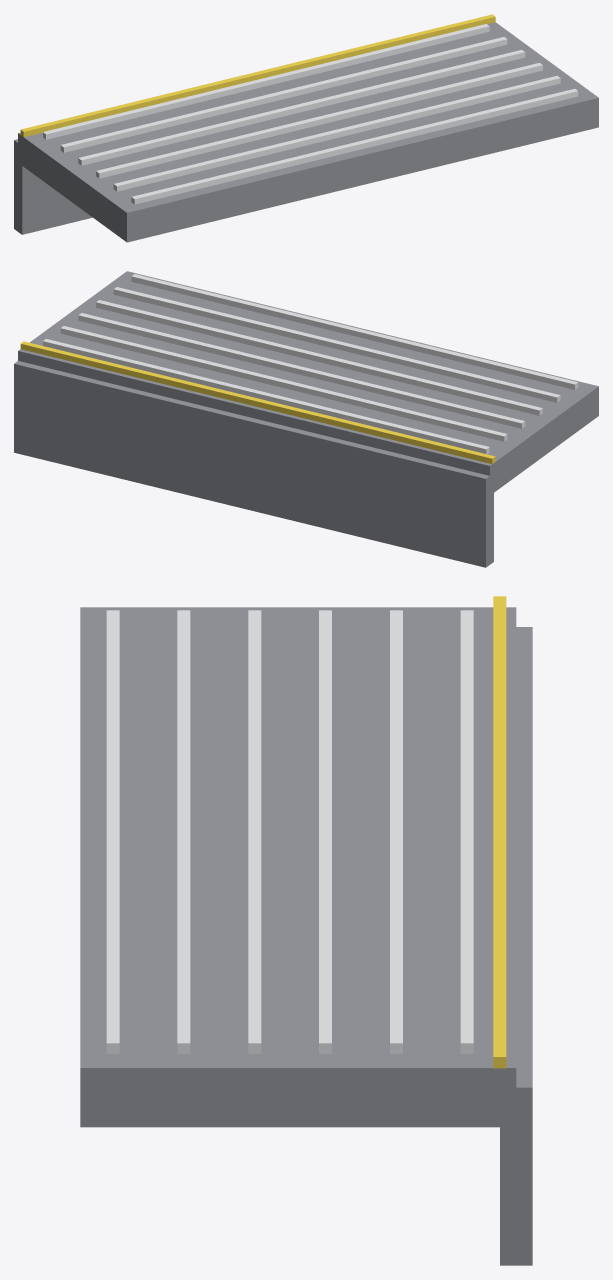
The model's file is escalator_step.glb.
3 views of the same model, one above another, from view 1: azimuth 30°, elevation 25°; view 2: azimuth 150°, elevation 25°; view 3: azimuth 270°, elevation 25° (orthographic). The views are drawn at different scales.
Parts seen in each view (by area): view 1: escalator_step; view 2: escalator_step; view 3: escalator_step.
Part boxes in pixels (box(x1,y1,x2,y2)): escalator_step: box(14, 14, 598, 242); escalator_step: box(14, 271, 598, 567); escalator_step: box(80, 596, 532, 1265).
Bounding box in the file's own units: 1 × 0.211 × 0.415.
